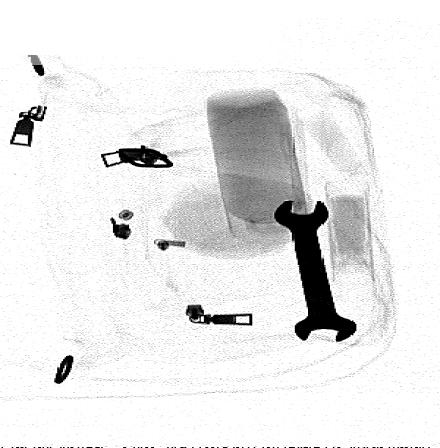Wrench: (273, 197, 357, 344)
